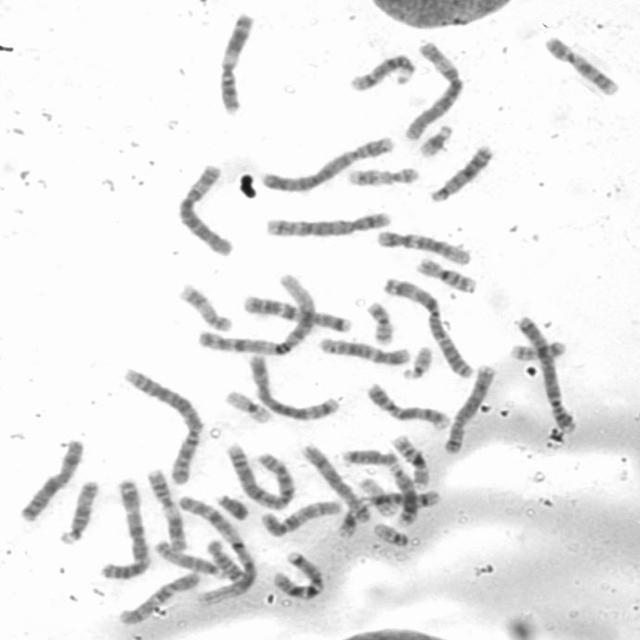A1: (193, 270, 320, 356), (176, 493, 256, 602)
A2: (119, 364, 204, 487), (222, 440, 296, 510)
A3: (379, 274, 477, 380), (96, 476, 150, 581)
B4: (257, 133, 397, 194), (512, 310, 578, 435)
B5: (245, 350, 341, 421), (261, 208, 392, 239)
C10: (112, 568, 202, 629), (256, 496, 344, 538)
C11: (216, 10, 256, 116), (143, 465, 188, 553)
C12: (373, 228, 472, 266), (315, 334, 411, 366)
C6: (400, 38, 464, 142), (174, 161, 237, 258)
C7: (240, 292, 353, 334), (270, 548, 325, 601)
C8: (298, 441, 374, 525), (440, 362, 498, 456)
C9: (540, 32, 620, 98), (364, 379, 452, 431)
D13: (425, 142, 496, 204), (386, 460, 418, 528)
D14: (345, 50, 417, 94), (358, 486, 444, 510)
D15: (151, 537, 223, 578), (57, 479, 100, 546)
E16: (414, 253, 478, 294), (388, 432, 431, 489)
E17: (176, 280, 234, 334), (344, 164, 422, 188)
E18: (204, 537, 246, 581), (341, 448, 400, 467)
F19: (221, 386, 274, 425), (355, 475, 399, 518)
F20: (362, 298, 398, 347), (509, 339, 569, 361)
G21: (415, 122, 455, 160), (334, 506, 362, 540)
G22: (398, 343, 436, 382), (371, 520, 412, 549)
X: (15, 436, 86, 523)
Y: (213, 491, 250, 521)
